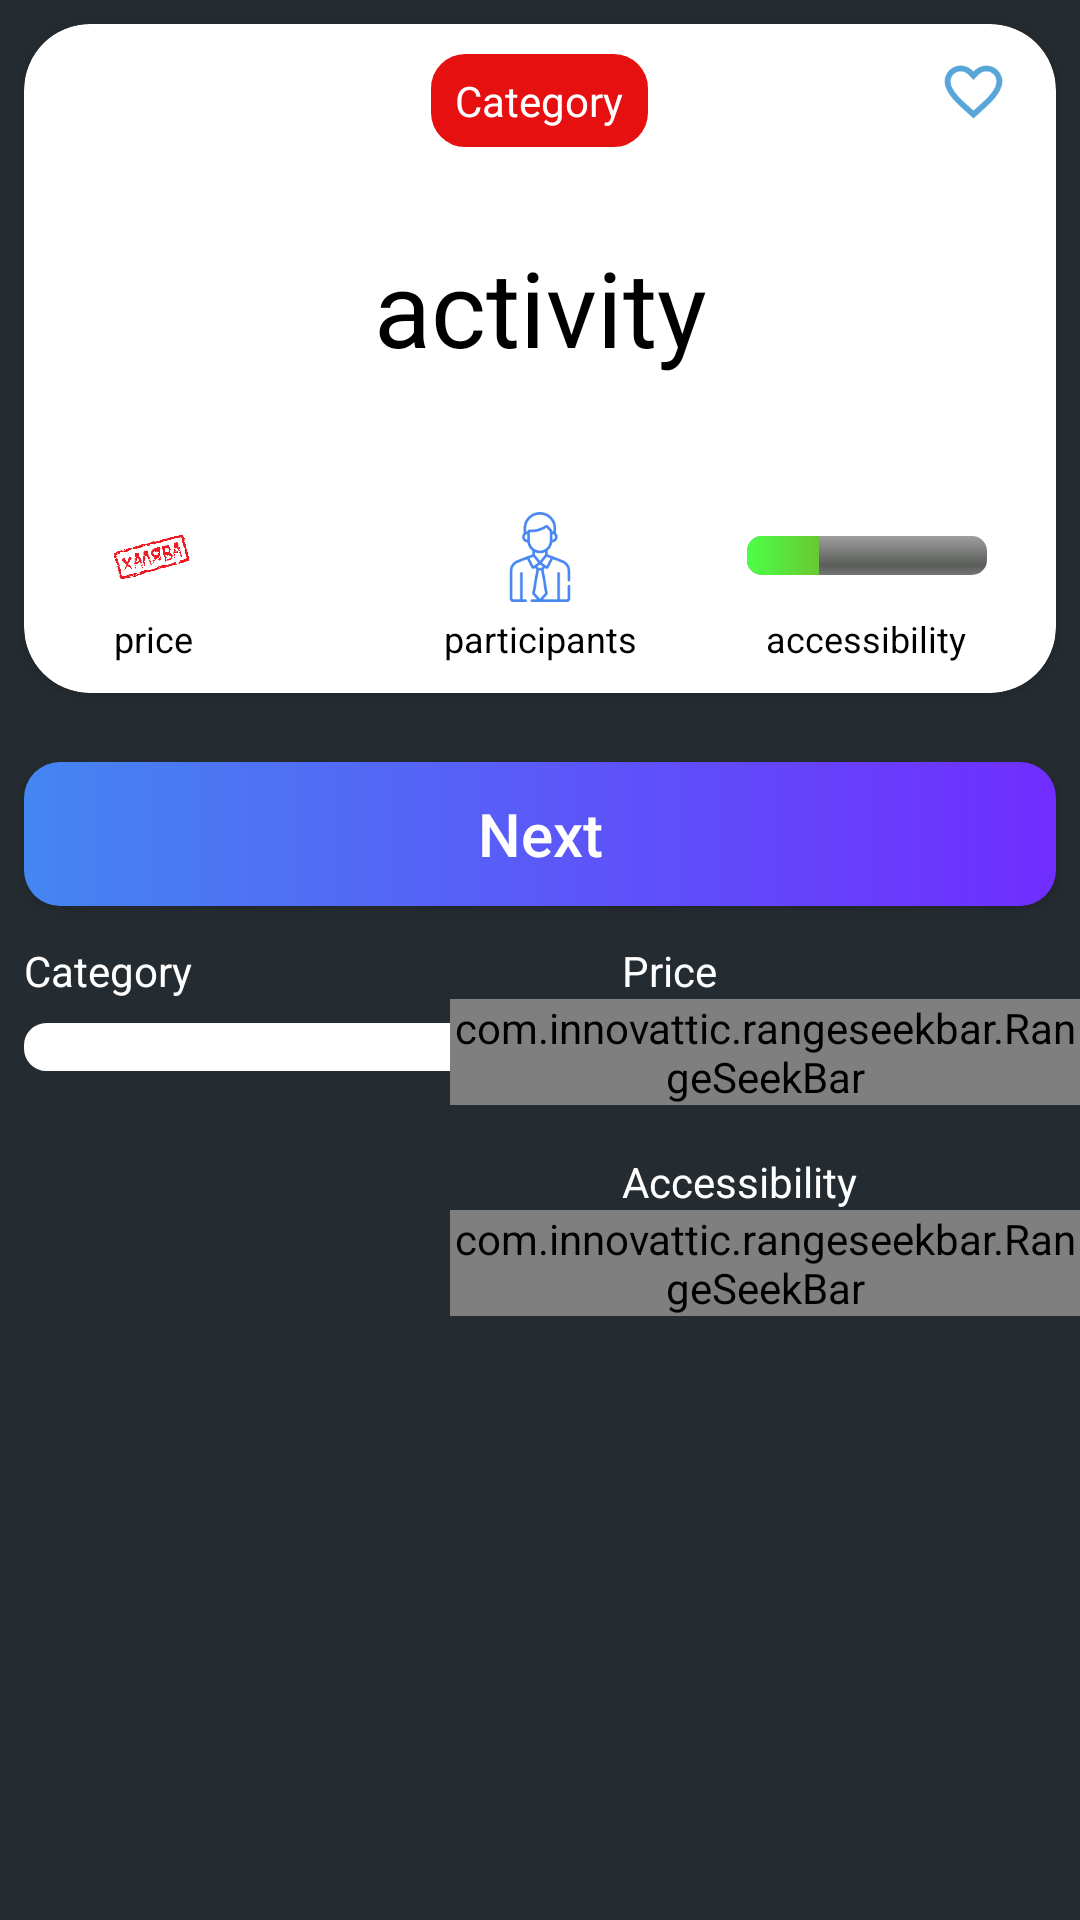

Screen size 1080×1920. Icon name, then its box in pixels as (x1, y1, x2, y2):
employee: (509, 512, 571, 602)
